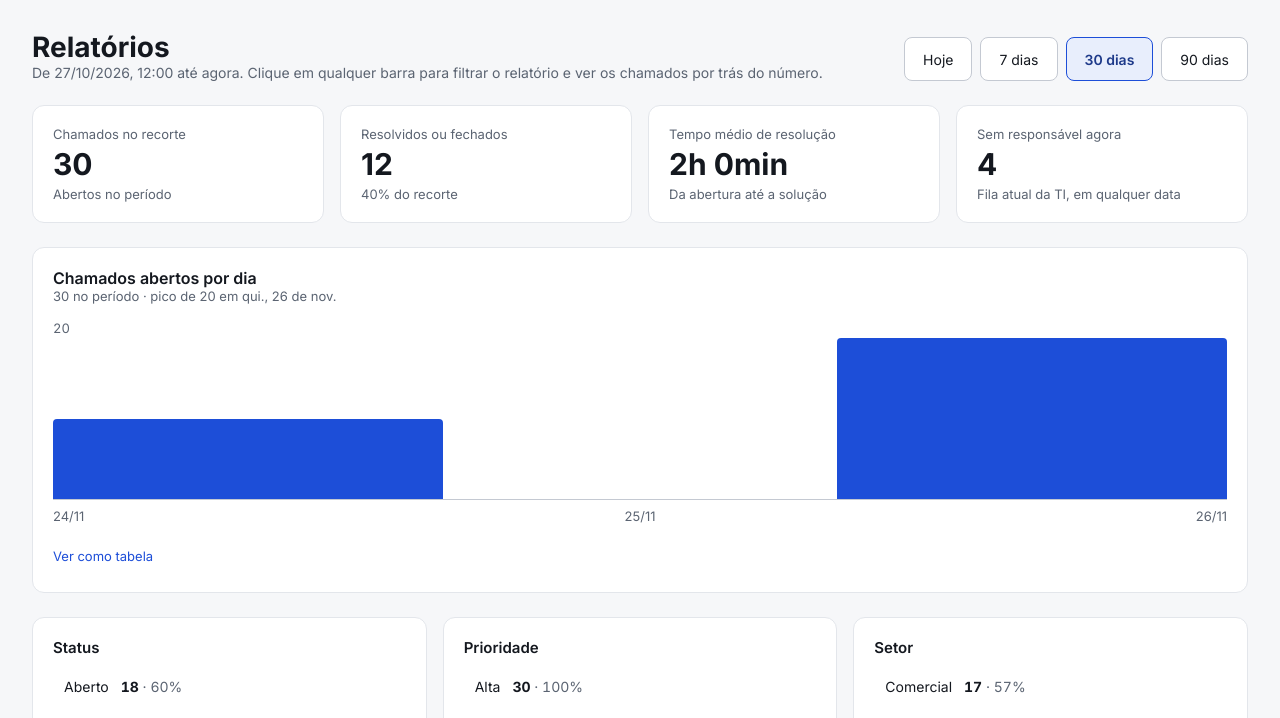
Test case: ReportsPage › clicar em um setor filtra o relatório e a lista de chamados
Click the button with aria-label "Comercial: 17 chamados, 57%".
click(919, 686)  # box x1=874 y1=669 x2=1227 y2=717
(page scrolled)
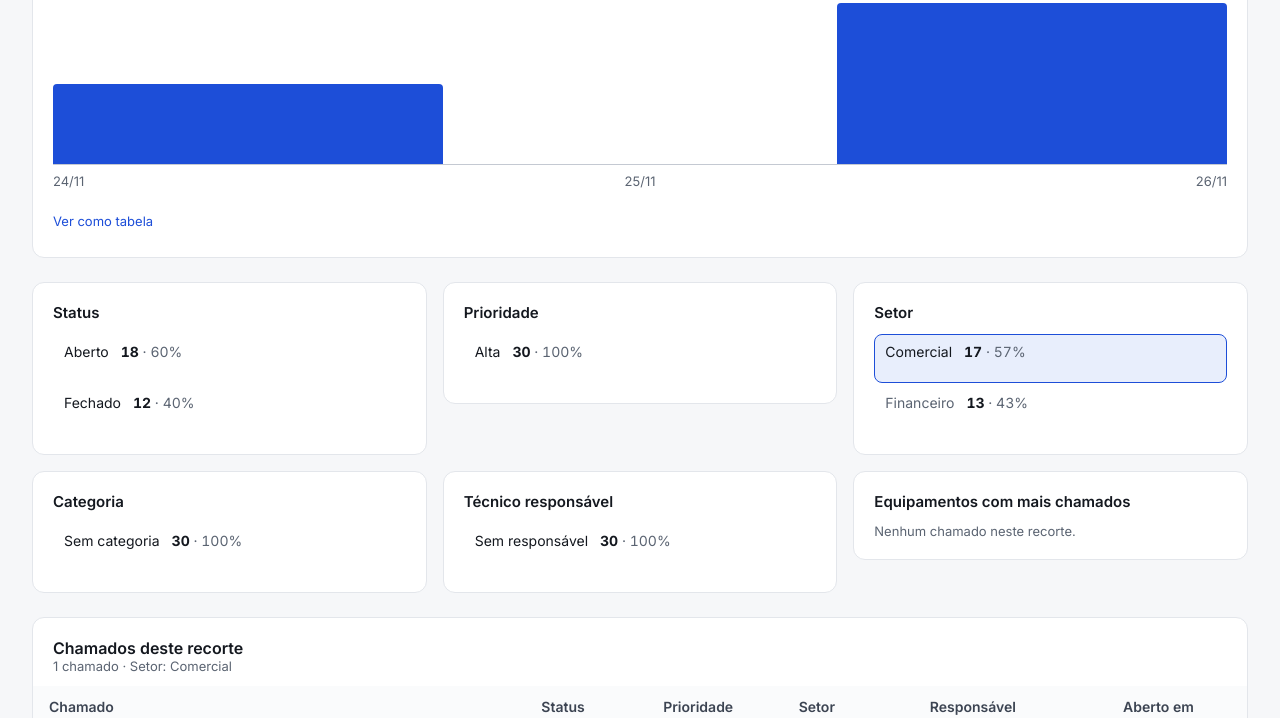
Expected: the button with aria-label "Comercial: 17 chamados" is pressed, x1=874 y1=334 x2=1227 y2=383
